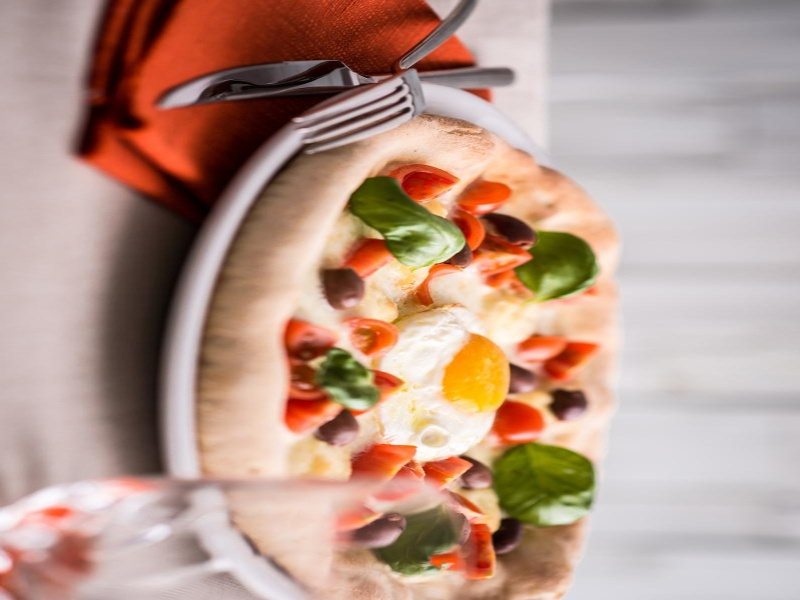oeuf: (420, 333, 521, 422)
